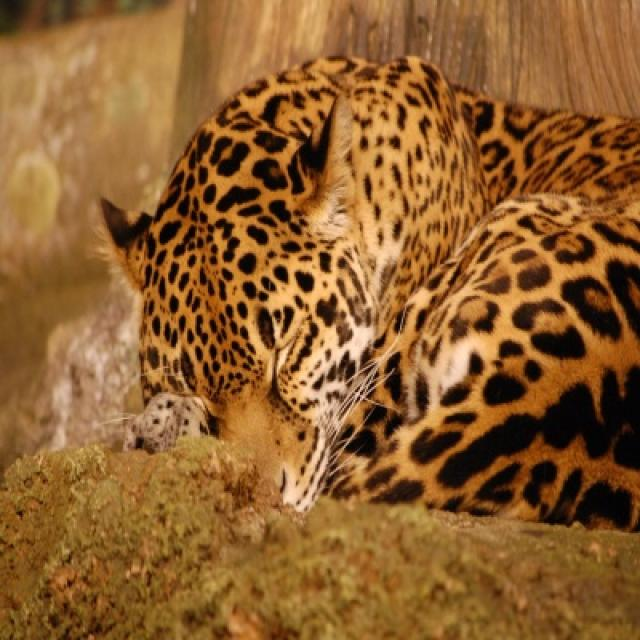Jaguar: (98, 58, 621, 517)
